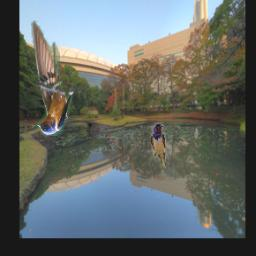Swallow: (32, 22, 75, 137), (152, 123, 167, 169)
